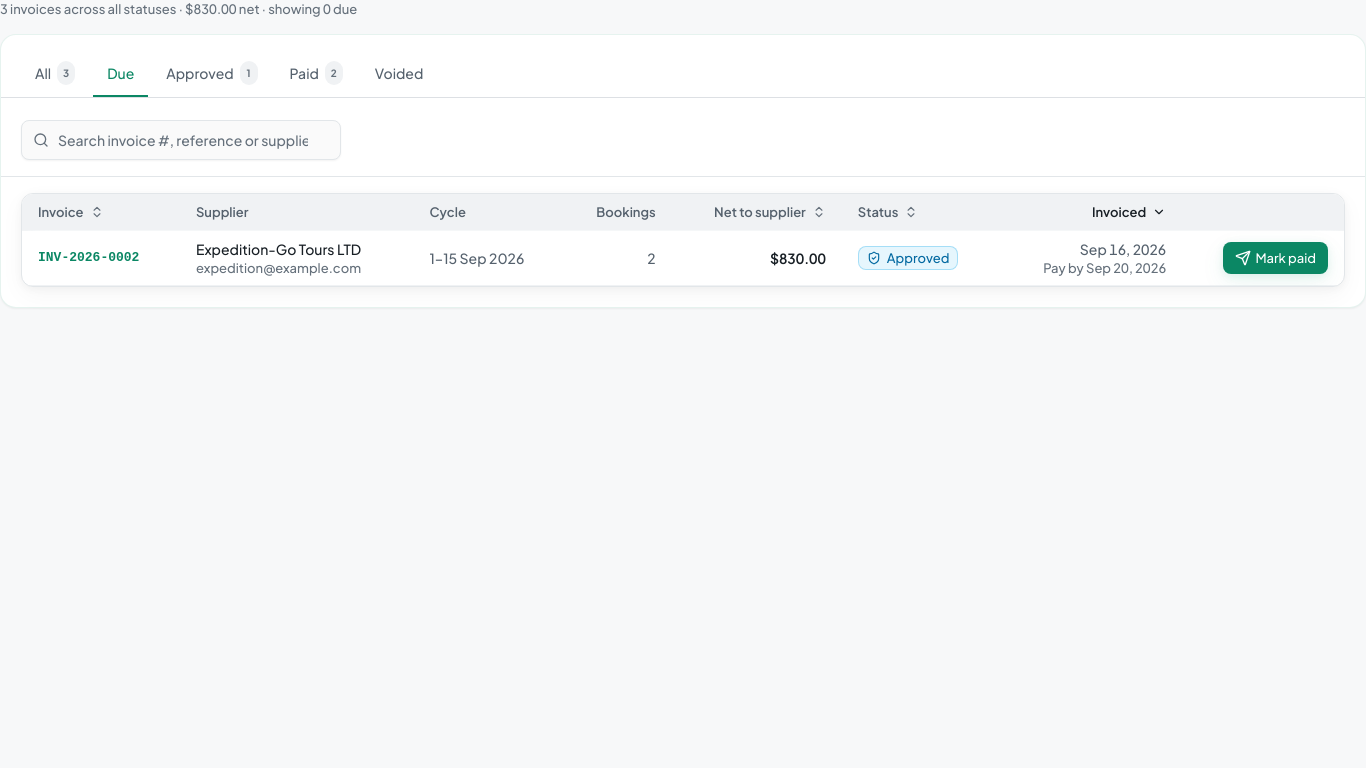
Test: InvoicesTab — marking paid › refuses to close the invoice without a real bank reference
Check: the text "INV-2026-0002" is shown, box [38,250,139,265]
Click the button named "Mark invoice INV-2026-0002 as paid": (1276, 258) [1223,242,1328,274]
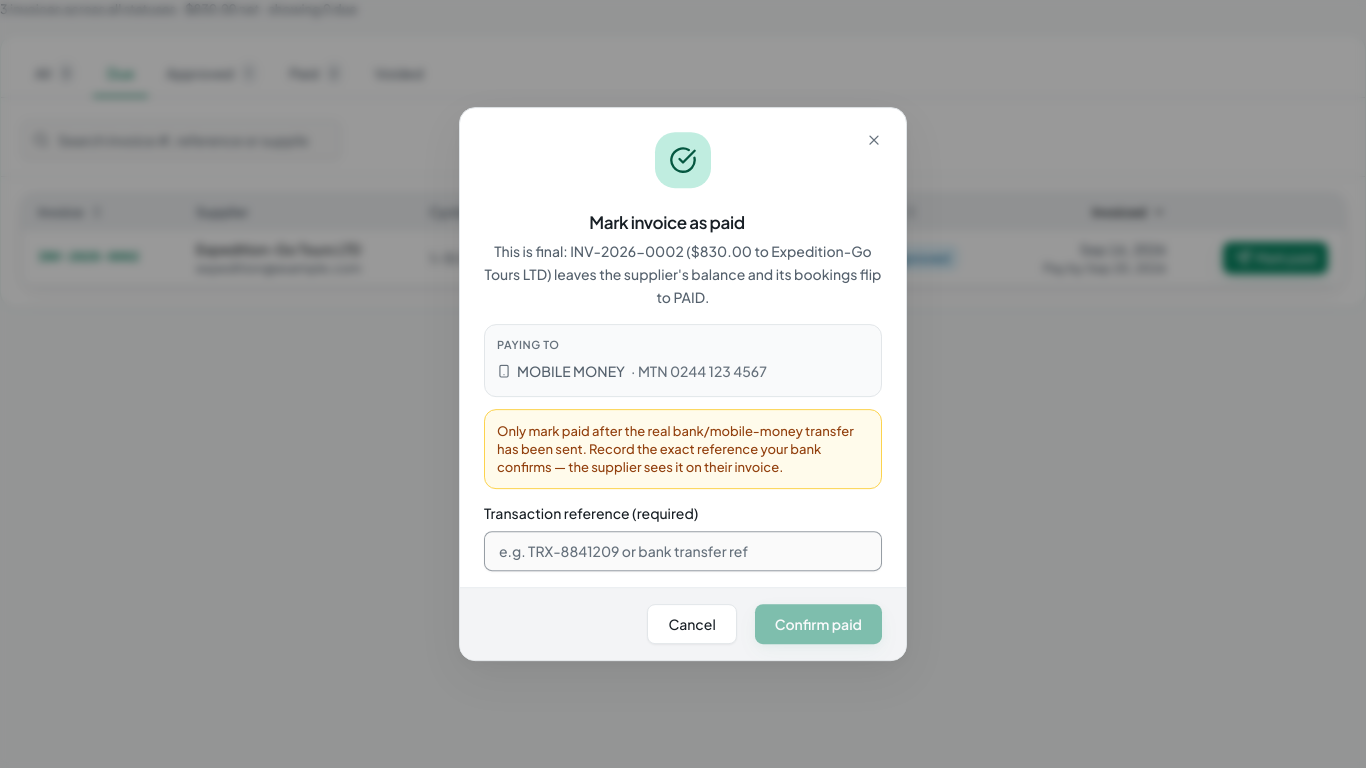
Check: the button "Confirm paid" is disabled, box [755,604,882,644]
In the field labelled "Transaction reference (required)": (683, 551) [484,531,882,571], type "test"
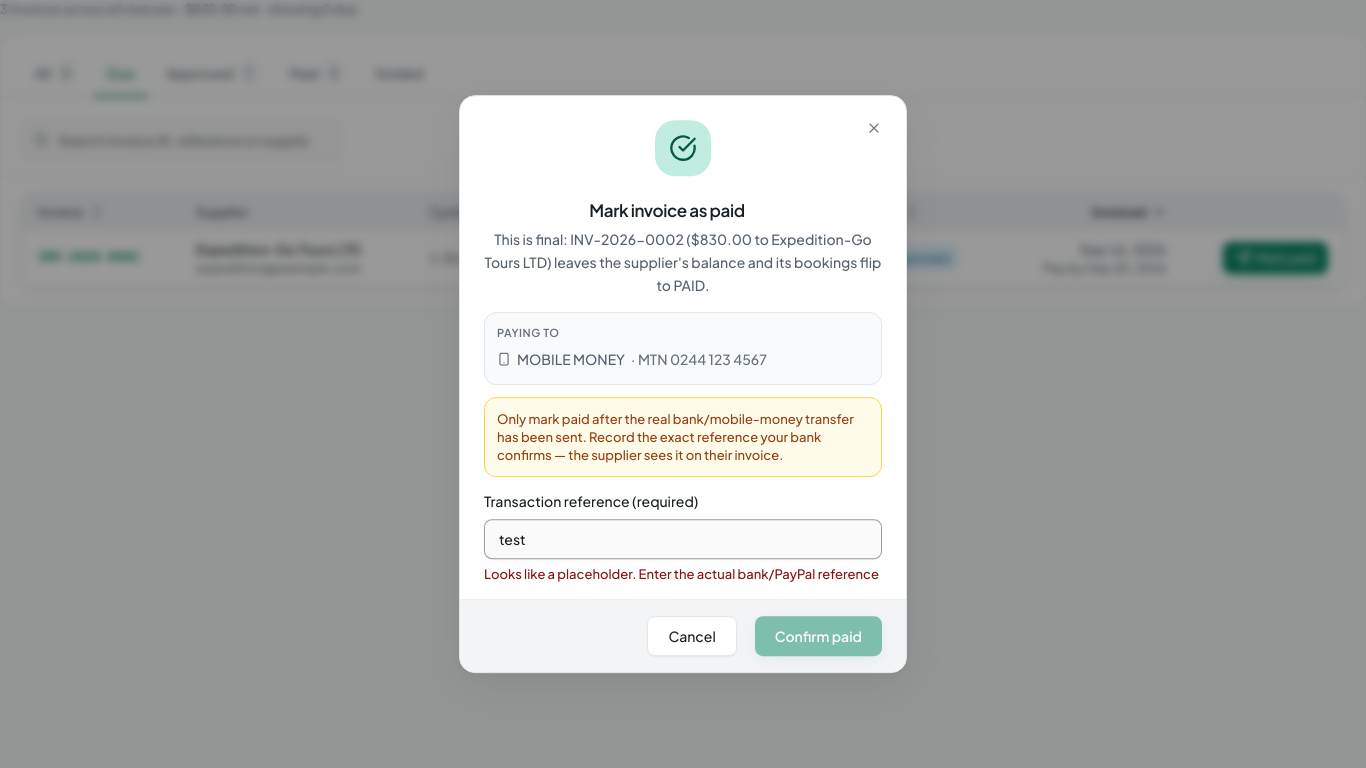
Check: the button "Confirm paid" is disabled, box [755,616,882,656]
Check: the text "Looks like a placeholder" is shown, box [484,566,879,582]
Replace the text in the field labelled "Transaction reference (required)" with "TRX-8841209": (683, 539) [484,519,882,559]
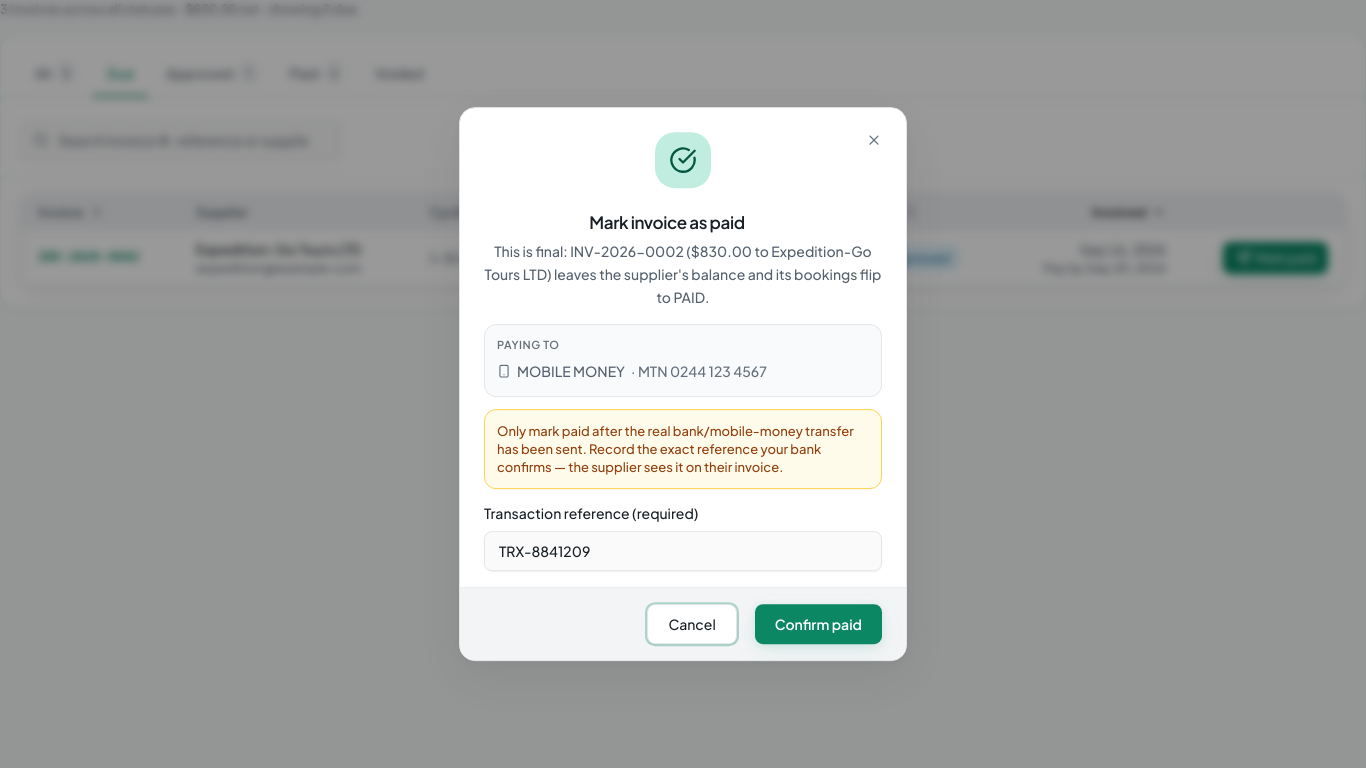
Check: the button "Confirm paid" is enabled
Click the button "Confirm paid": (818, 624) [755,604,882,644]
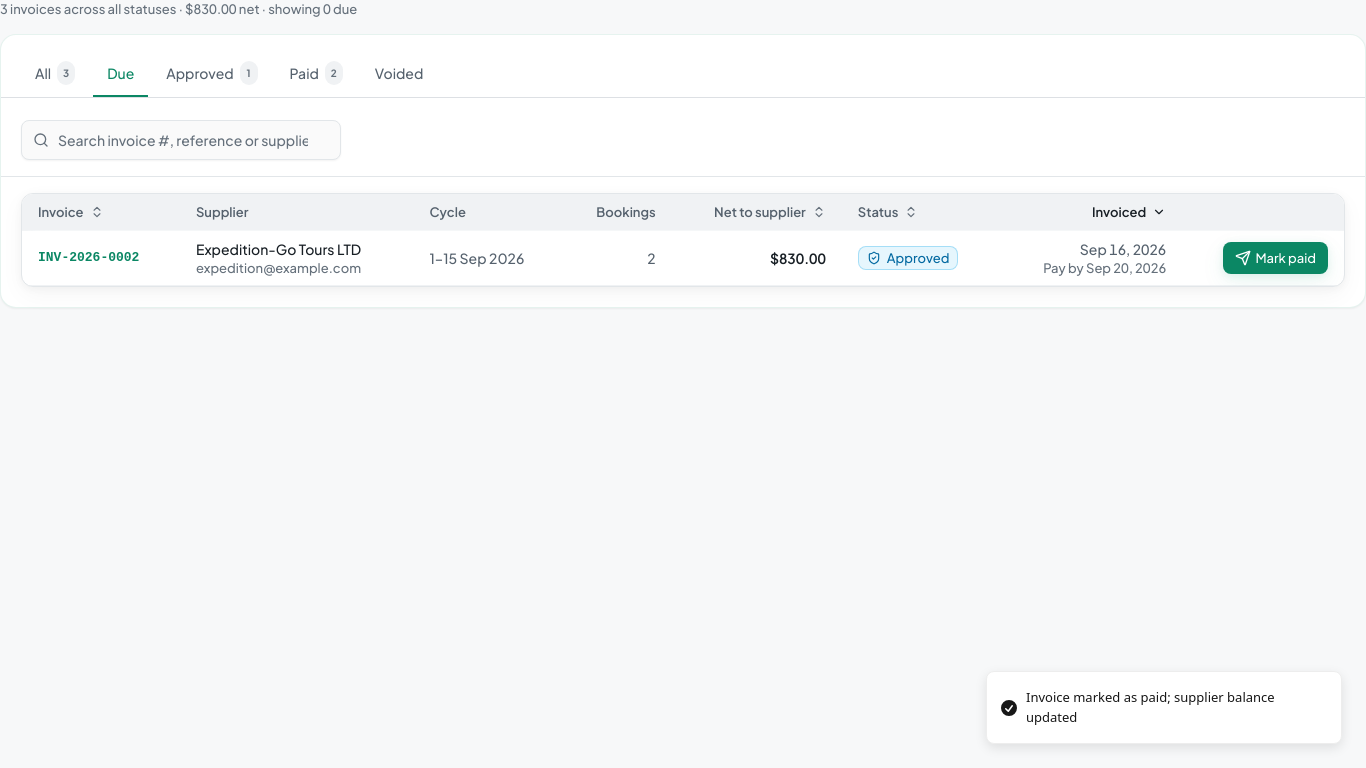
Check: the button "Confirm paid" is gone
